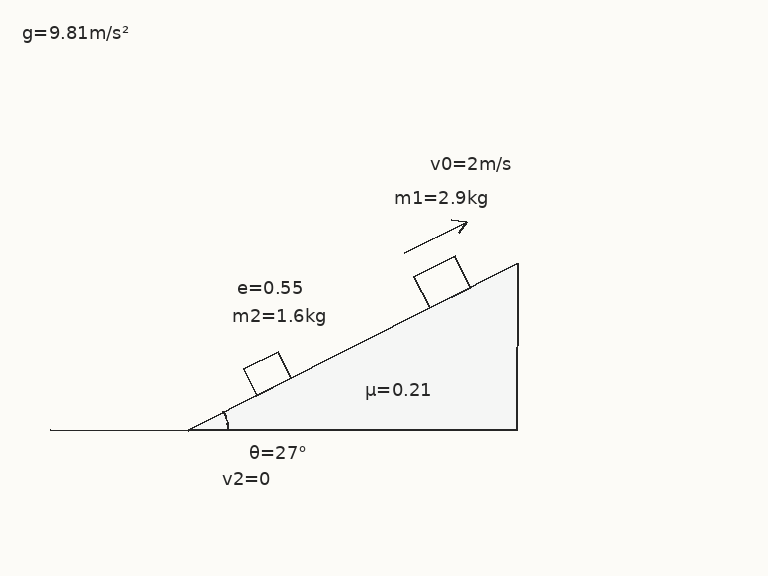block: (412, 254, 472, 309), (241, 350, 293, 397)
ramp: (186, 261, 518, 432)
